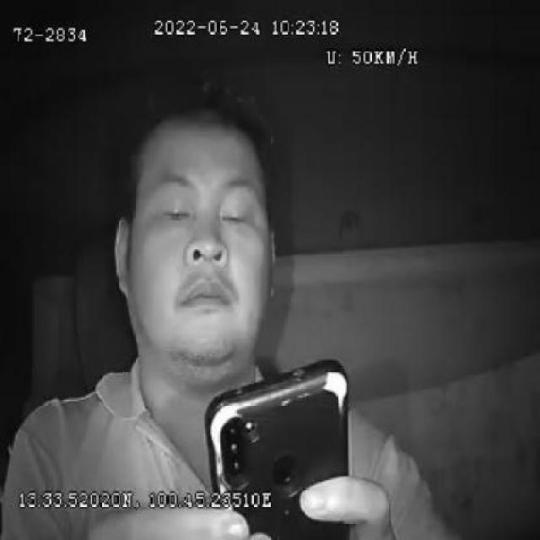phone: (204, 355, 356, 540)
